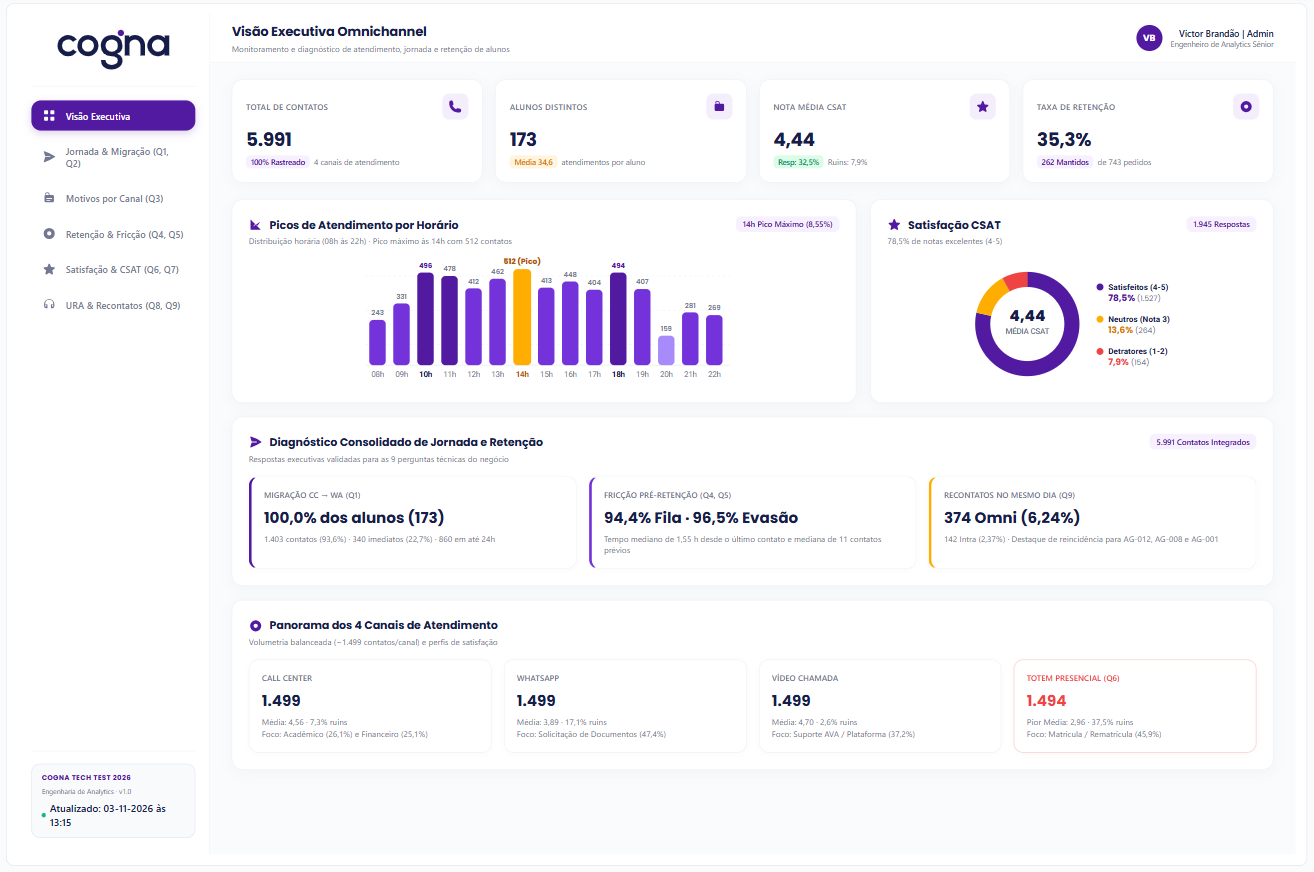

The page's visual inventory and layout, read from the dashboard file:
{"tool":"powerbi","page":{"name":"dashboard","canvas":[1920,1280],"ordinal":0},"visuals":[{"type":"htmlContent443BE3AD55E043BF878BED274D3A6855","fields":{"content":["_Medidas.#01_HTML_Dashboard_Executivo_Cogna"]},"box":[12.4,10.8,1896.8,1258.4],"z":0}]}

Visuals, with their boxes in screenshot pixels (x1, y1, x2, y2), scaled from the page's 1920x1280 canvas onto the 1314x872 screenshot:
htmlContent443BE3AD55E043BF878BED274D3A6855 - _Medidas.#01_HTML_Dashboard_Executivo_Cogna: {"left": 8, "top": 7, "right": 1307, "bottom": 865}
